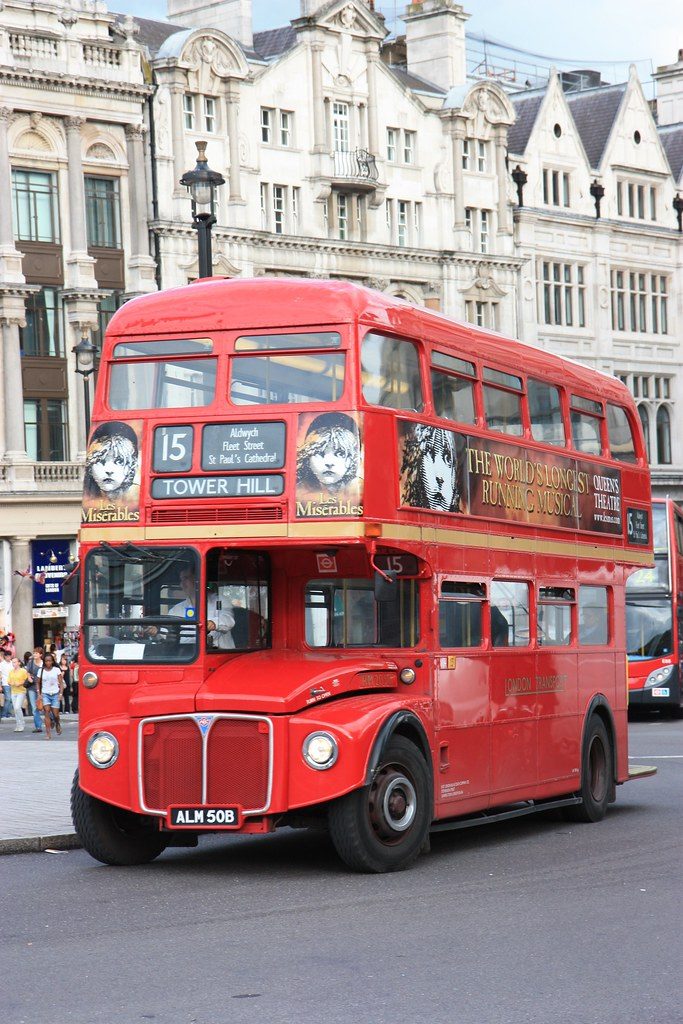bus: (58, 165, 683, 901)
